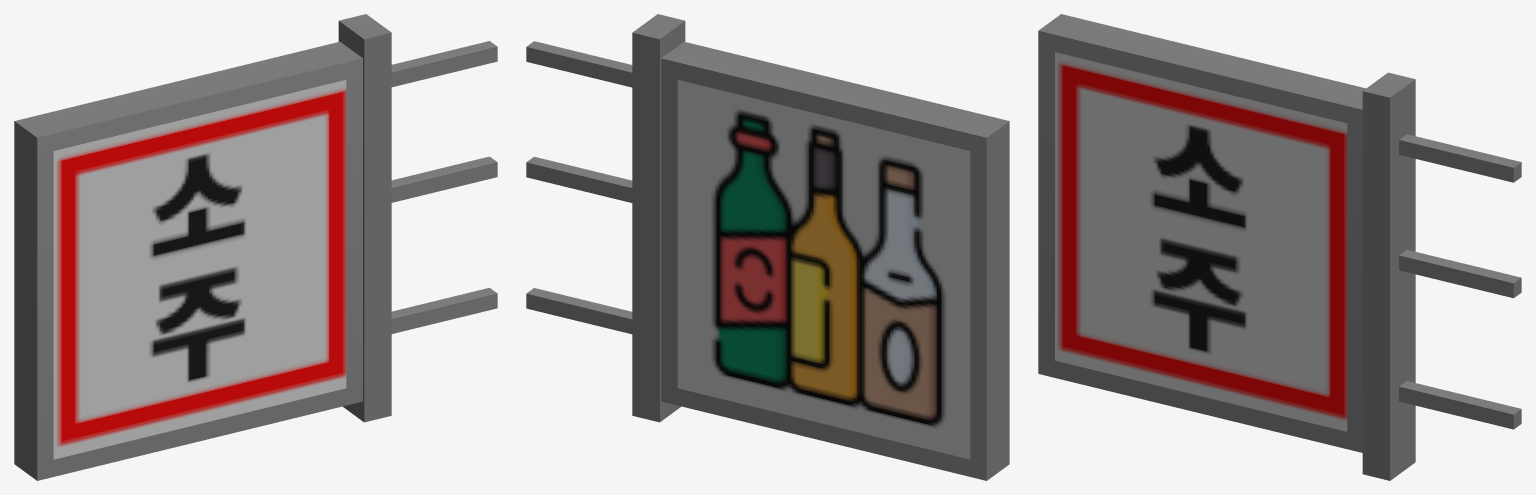
The model's file is B02_Enseigne_C_01.fbx.
The picture shows the model from 3 angles, left to right: view 1: azimuth 30°, elevation 25°; view 2: azimuth 150°, elevation 25°; view 3: azimuth 330°, elevation 25°; orthographic projection.
Visible parts, largest first — view 1: B02_Enseigne_C_01; view 2: B02_Enseigne_C_01; view 3: B02_Enseigne_C_01.
Boxes of the visible parts, <box> form: B02_Enseigne_C_01: <box>14,14,497,480</box>; B02_Enseigne_C_01: <box>526,14,1009,480</box>; B02_Enseigne_C_01: <box>1038,14,1521,480</box>.
Size of the model in its own units: 348 by 272 by 32.82.
